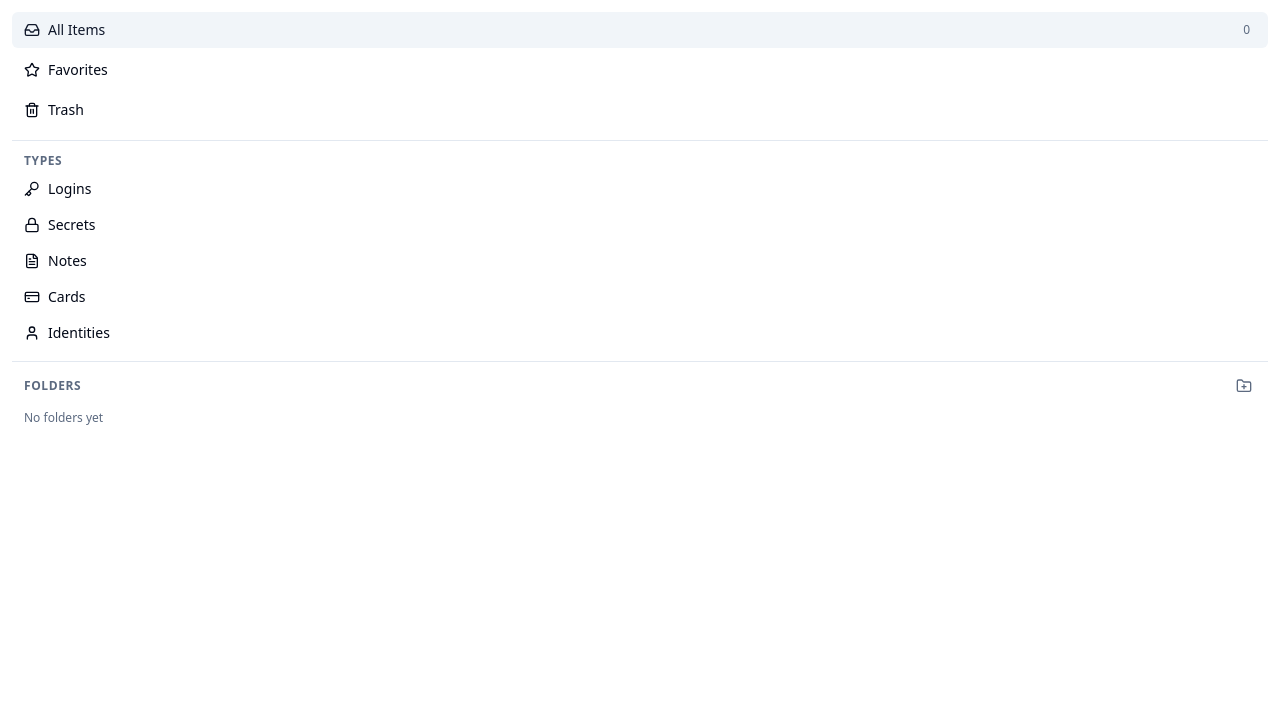
Scenario: FolderRail › opens the "New Folder" dialog when the create button is clicked
The width and height of the screenshot is (1280, 720).
Click the button named "Create folder": (1244, 386) [1232,374,1256,398]
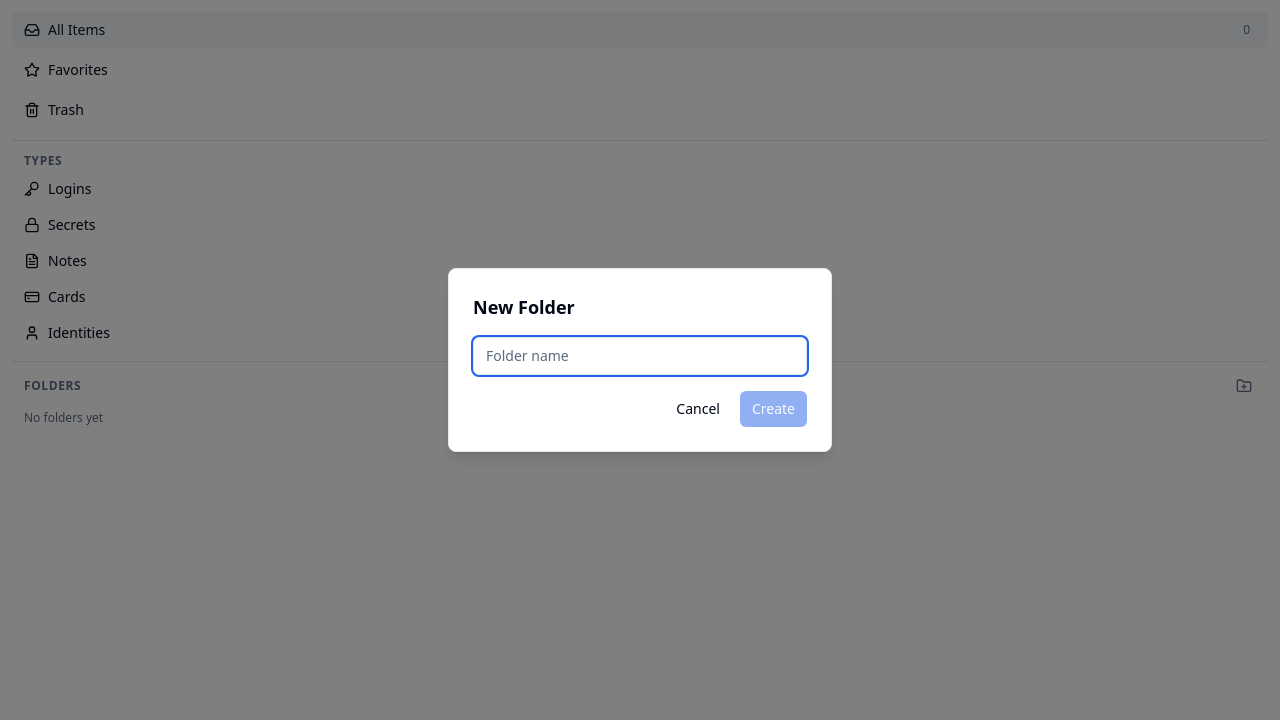
Now the heading "New Folder" is shown, box [473,295,575,319]
Now the field with placeholder "Folder name" is shown, box [473,337,807,375]
Now the button "Create" is shown, box [740,391,807,427]
